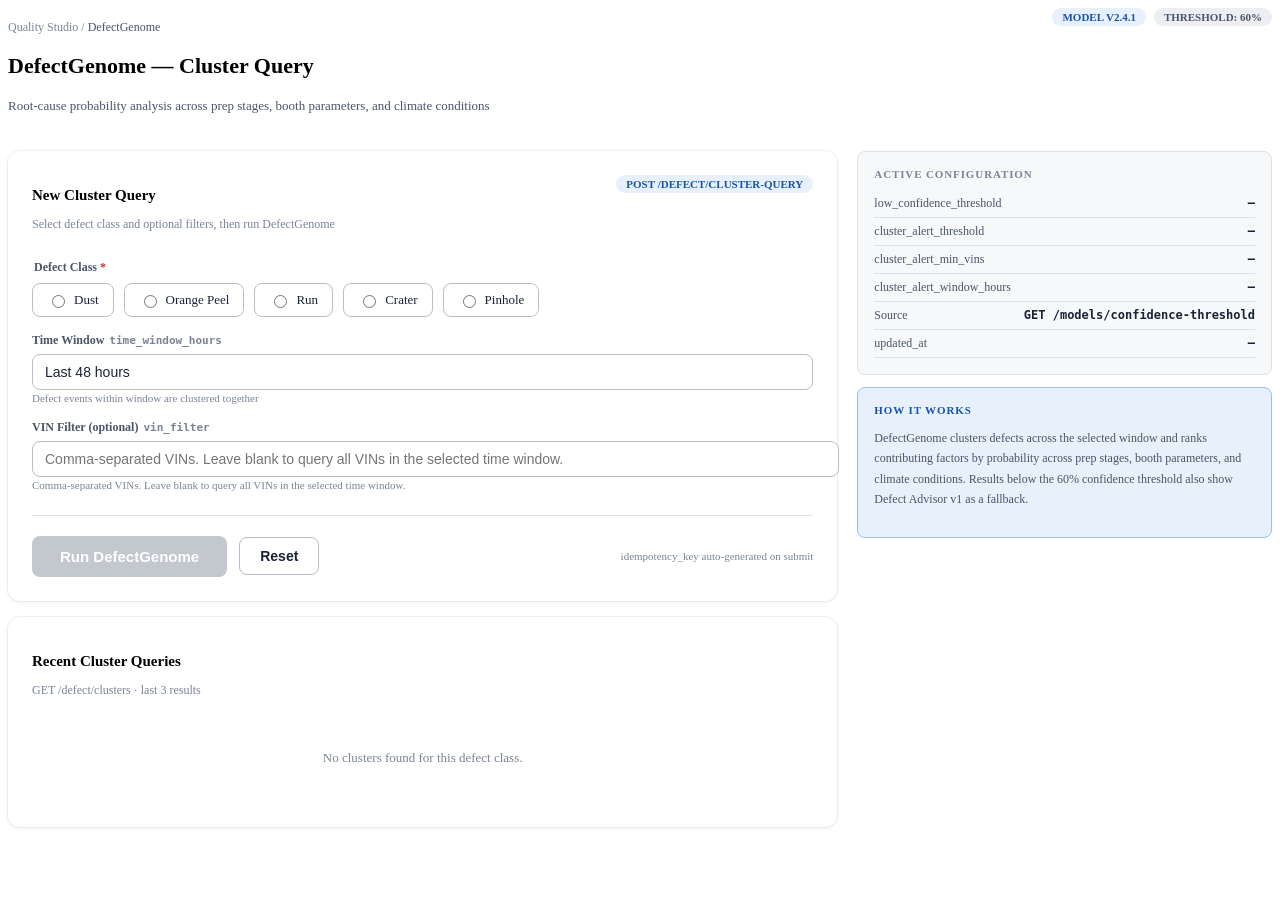
it: DefectGenomePage — confirmation modal pre-population › modal cancel button closes the modal
Click the radio button with test id "radio-dust" at (58, 301), box [52, 295, 65, 308]
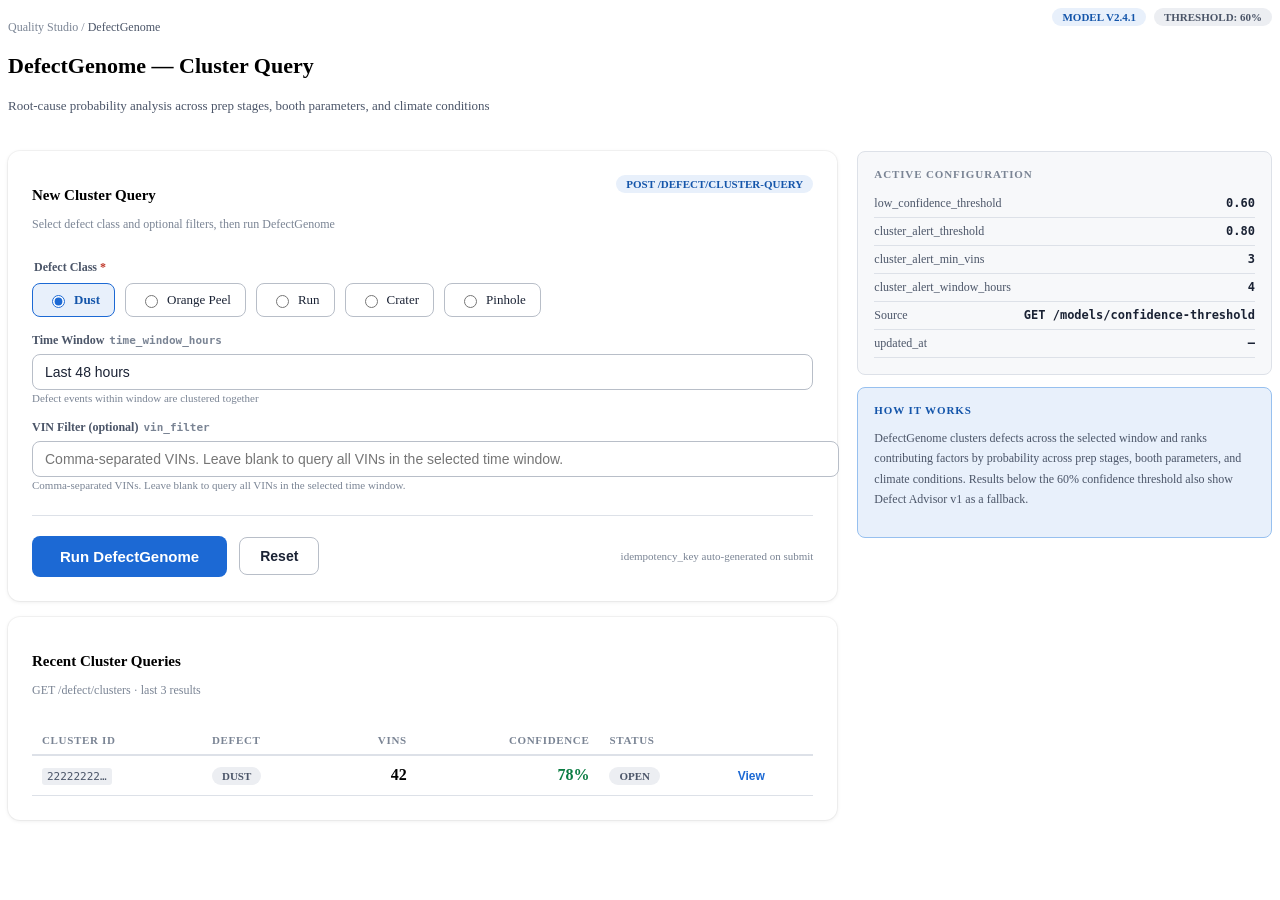
Click the button with test id "run-defect-genome-btn" at (130, 556), box [32, 536, 227, 577]
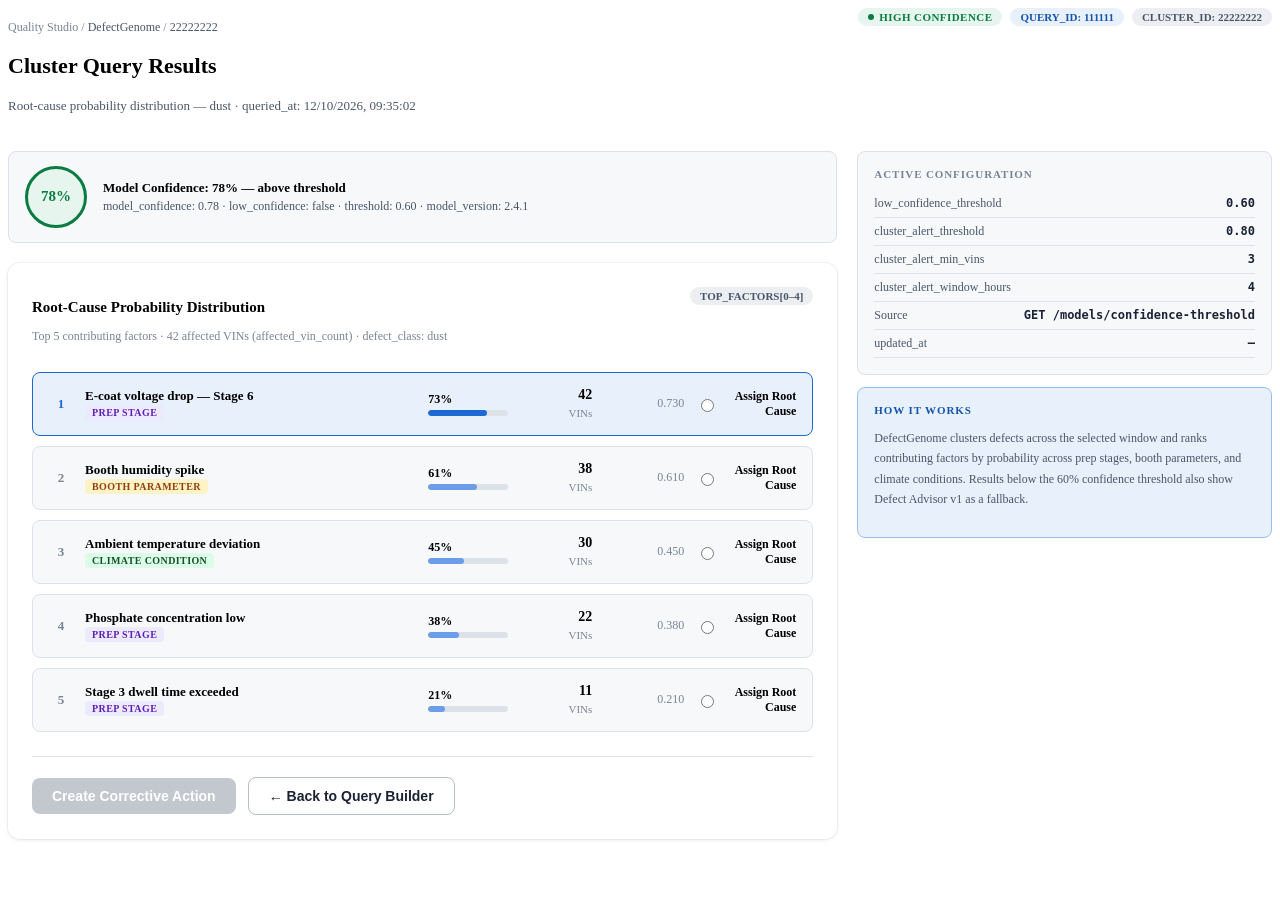
Expected: the element with test id "factor-list" is shown, [32, 372, 813, 732]
Click the radio button with test id "factor-radio-1" at (708, 405), box [701, 399, 714, 412]
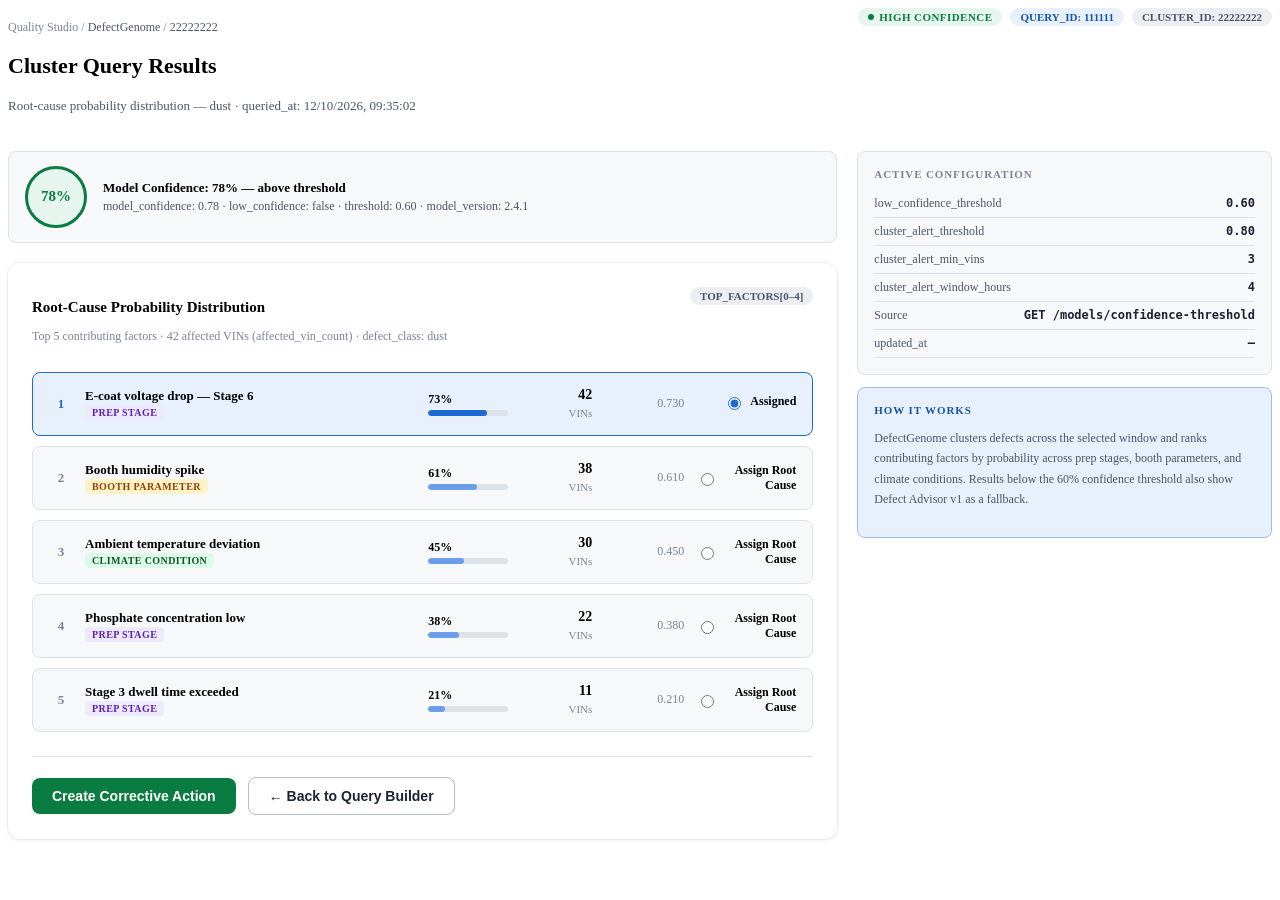
Click the button with test id "create-corrective-action-btn" at (134, 796), box [32, 778, 236, 814]
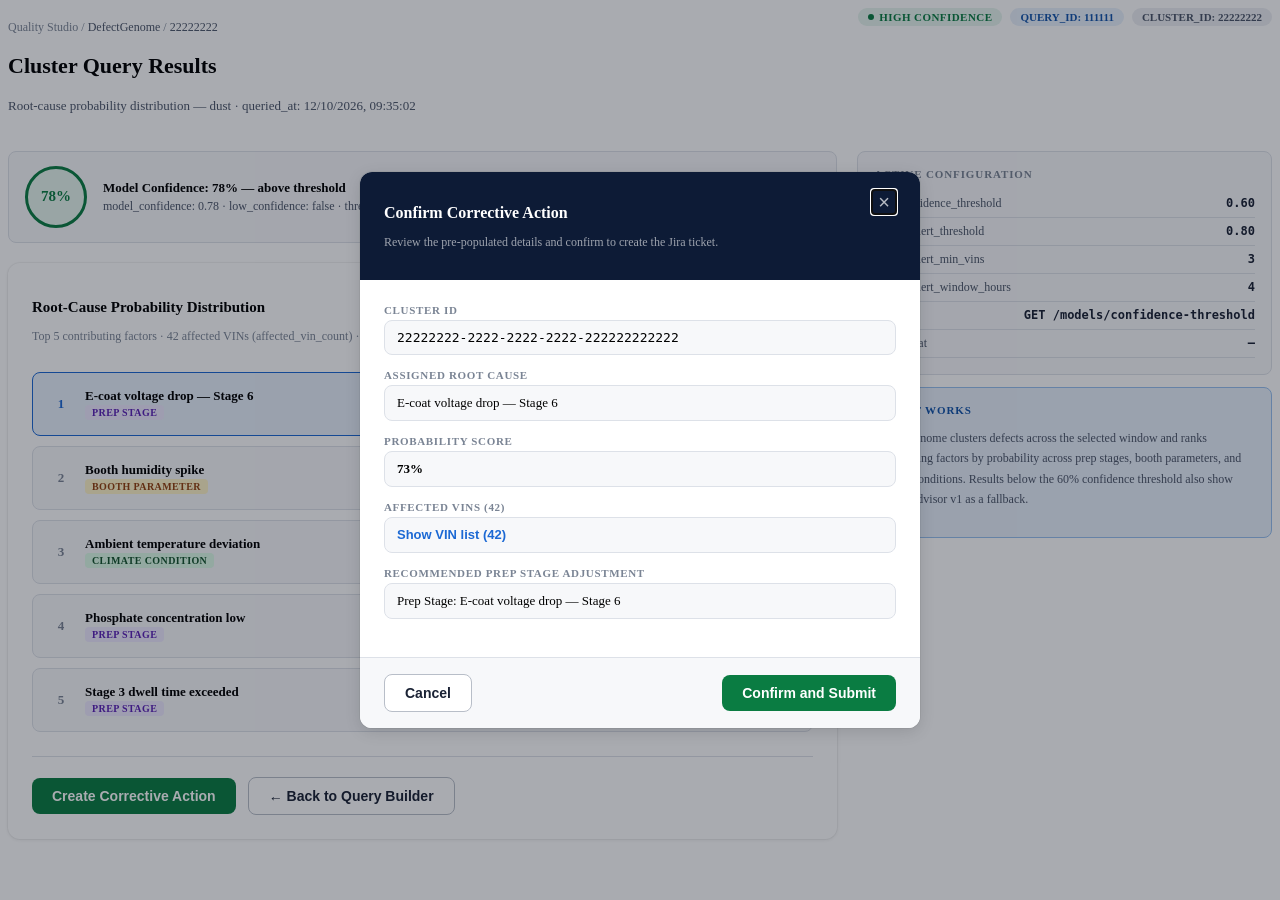
Expected: the dialog with test id "corrective-action-modal" is shown
Click the button with test id "modal-cancel" at (428, 693), box [384, 674, 472, 712]
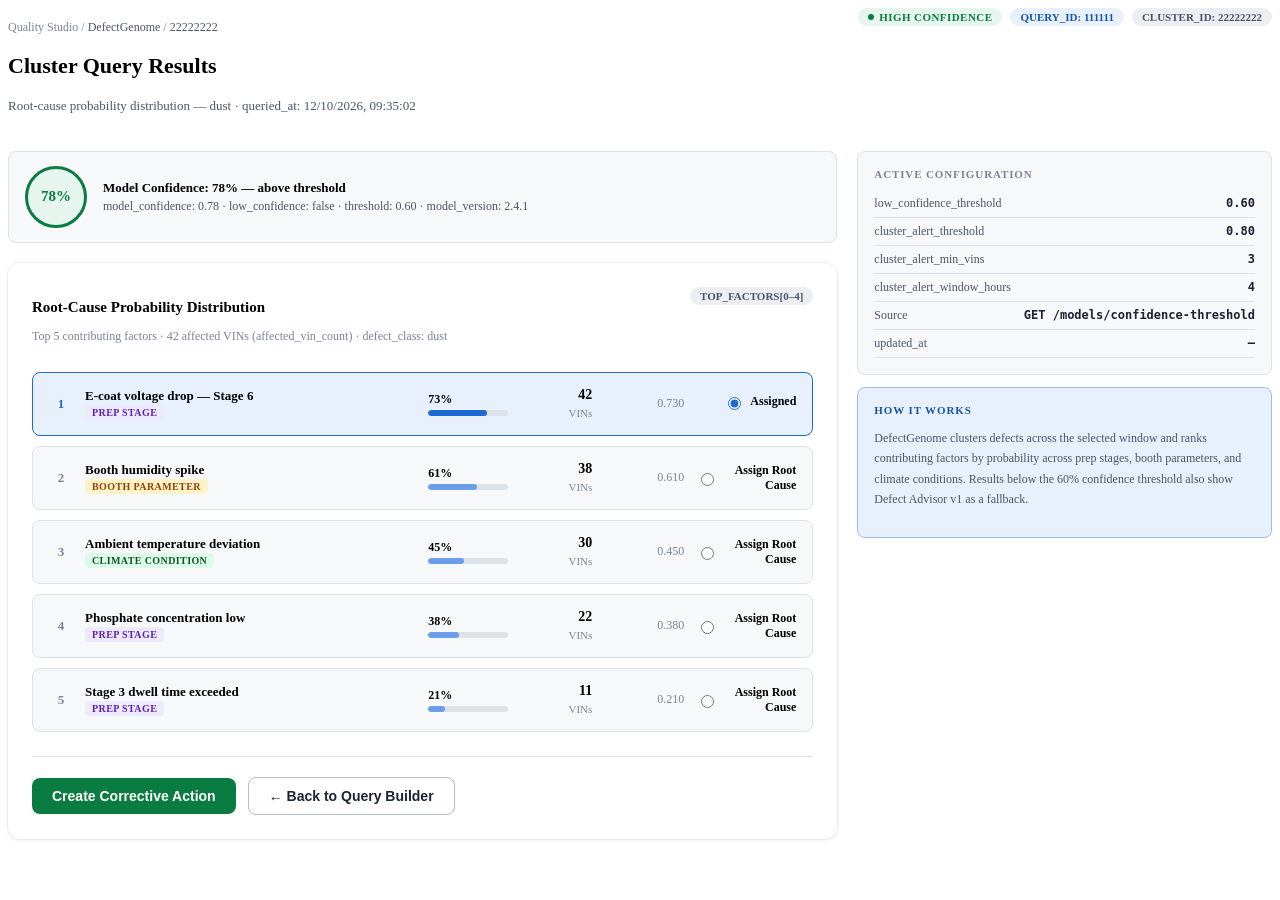
Expected: the dialog with test id "corrective-action-modal" is gone
